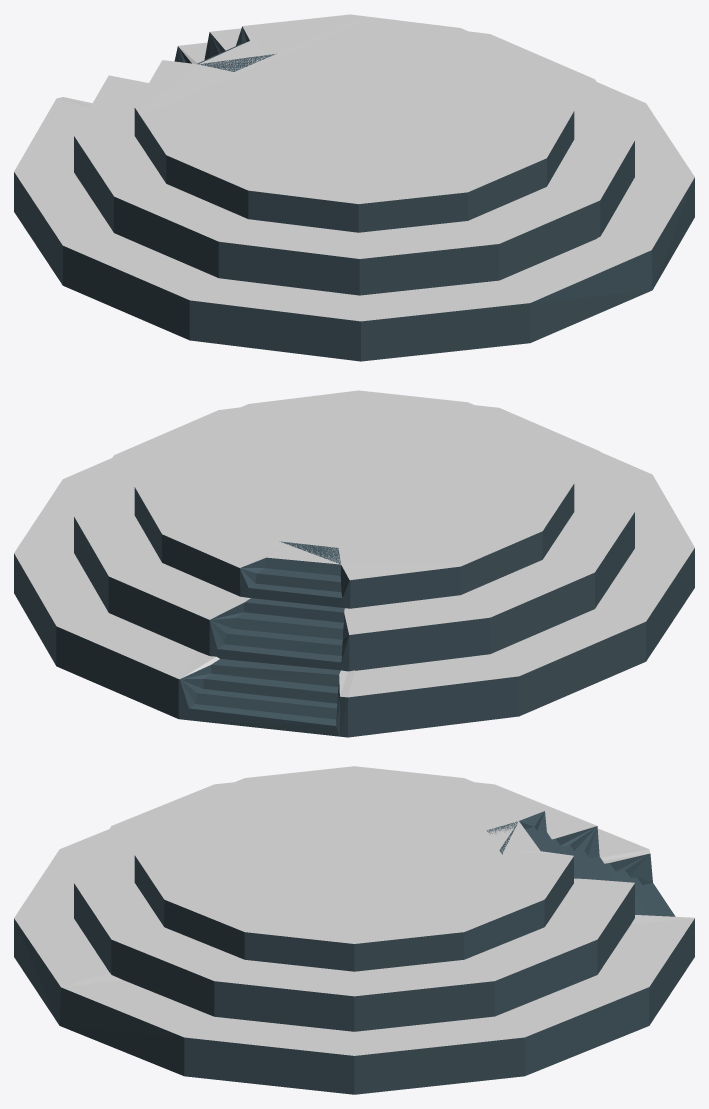
The picture shows the model from 3 angles, top to bottom: view 1: azimuth 30°, elevation 25°; view 2: azimuth 150°, elevation 25°; view 3: azimuth 270°, elevation 25°; orthographic projection. The views are drawn at different scales.
Visible parts, largest first — view 1: mesh_679271744, mesh_1539930016, mesh_158027870; view 2: mesh_679271744, mesh_1539930016, mesh_158027870; view 3: mesh_679271744, mesh_1539930016, mesh_158027870.
Part boxes in pixels (x1,y1,x2,y2): mesh_679271744: [134, 14, 574, 232]; mesh_1539930016: [14, 42, 694, 361]; mesh_158027870: [74, 28, 634, 295]; mesh_679271744: [134, 390, 574, 608]; mesh_1539930016: [14, 452, 694, 737]; mesh_158027870: [74, 405, 634, 671]; mesh_679271744: [134, 766, 573, 971]; mesh_1539930016: [14, 828, 694, 1094]; mesh_158027870: [74, 782, 634, 1031].
Size of the model in its own units: 64.83 by 11.2 by 67.69.
